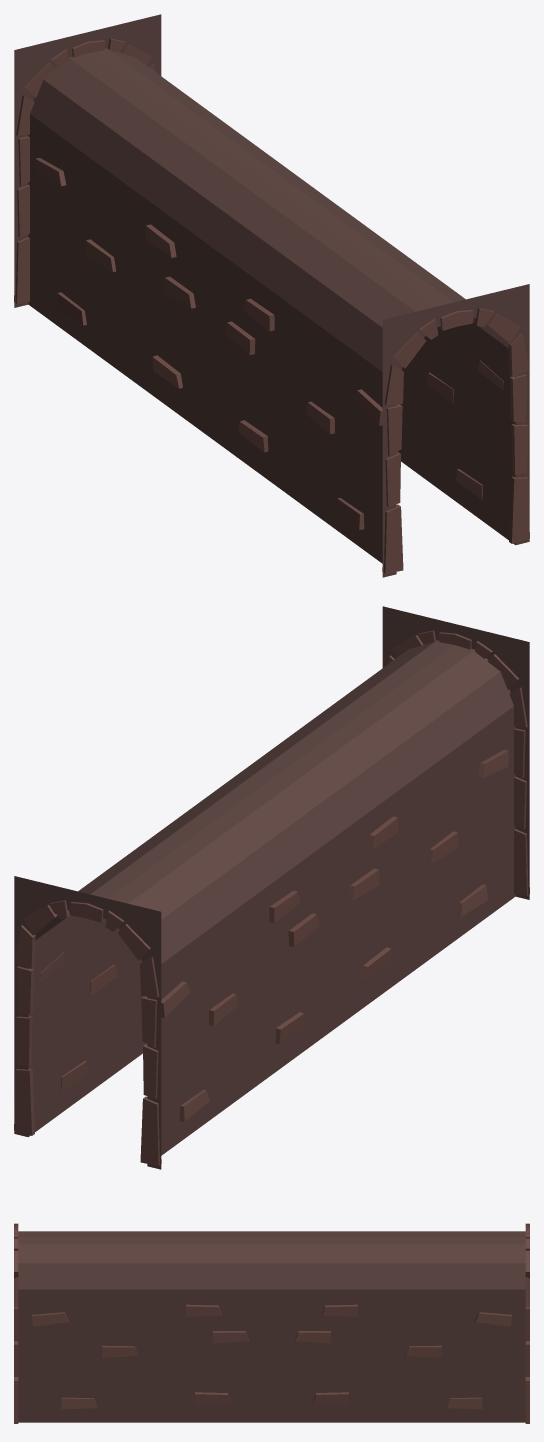
Rendered from bridgeSingleOpening_module.fbx.
The picture shows the model from 3 angles, top to bottom: view 1: azimuth 30°, elevation 25°; view 2: azimuth 150°, elevation 25°; view 3: azimuth 270°, elevation 25°; orthographic projection. The views are drawn at different scales.
Parts seen in each view (by area): view 1: Plane.246; view 2: Plane.246; view 3: Plane.246.
Boxes of the visible parts, bbox=[...] form: Plane.246: bbox=[14, 14, 529, 577]; Plane.246: bbox=[14, 606, 529, 1169]; Plane.246: bbox=[14, 1223, 529, 1423].
Size of the model in its own units: 200 by 335 by 874.
